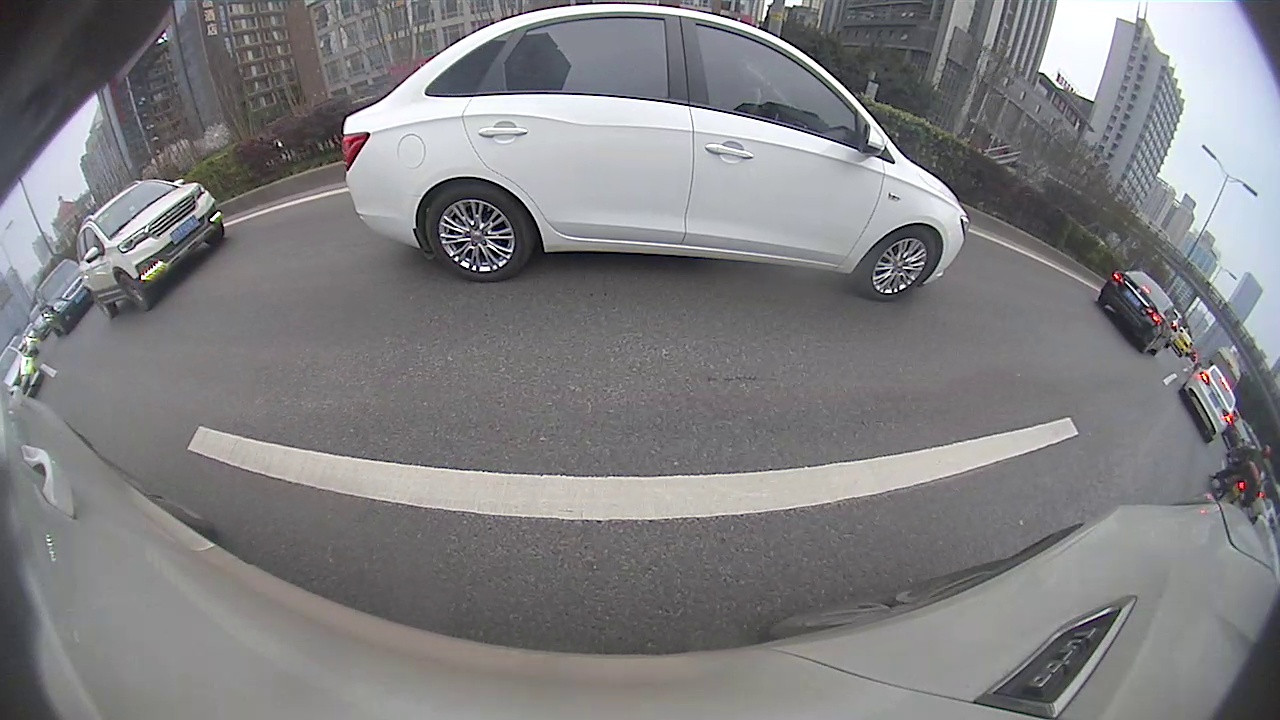bus: (1151, 209, 1279, 391), (845, 143, 1014, 200)
car: (143, 228, 286, 320), (273, 178, 444, 253), (49, 285, 171, 390), (876, 172, 1027, 250), (782, 158, 847, 197), (1060, 216, 1121, 256), (699, 159, 744, 188), (616, 160, 644, 183)
front: (1195, 310, 1230, 357), (879, 195, 894, 217), (858, 184, 873, 198)
rear: (941, 213, 963, 242)
